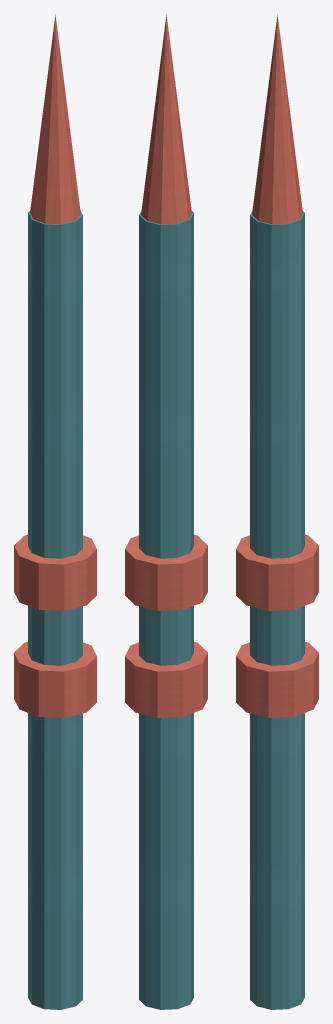
The model's file is atlas100-s071-a05.lod1.glb.
3 renders of one model, left to right at view 1: azimuth 30°, elevation 25°; view 2: azimuth 150°, elevation 25°; view 3: azimuth 330°, elevation 25°, orthographic.
Visible parts, largest first — view 1: atlas100-s071-a05:part-000, atlas100-s071-a05:part-004, atlas100-s071-a05:part-002, atlas100-s071-a05:part-003; view 2: atlas100-s071-a05:part-000, atlas100-s071-a05:part-004, atlas100-s071-a05:part-002, atlas100-s071-a05:part-003; view 3: atlas100-s071-a05:part-000, atlas100-s071-a05:part-004, atlas100-s071-a05:part-002, atlas100-s071-a05:part-003.
Part boxes in pixels (x1,y1,x2,y2): atlas100-s071-a05:part-000: (28, 210, 82, 1009); atlas100-s071-a05:part-004: (30, 14, 80, 224); atlas100-s071-a05:part-002: (14, 641, 96, 717); atlas100-s071-a05:part-003: (14, 534, 96, 610); atlas100-s071-a05:part-000: (139, 210, 193, 1009); atlas100-s071-a05:part-004: (141, 14, 191, 224); atlas100-s071-a05:part-002: (125, 641, 207, 717); atlas100-s071-a05:part-003: (125, 534, 207, 610); atlas100-s071-a05:part-000: (250, 210, 304, 1009); atlas100-s071-a05:part-004: (252, 14, 302, 224); atlas100-s071-a05:part-002: (236, 641, 318, 717); atlas100-s071-a05:part-003: (236, 534, 318, 610).
Bounding box in the file's own units: 0.1158 × 1.51 × 0.1101.
Materials: 2 (2 with a texture image).
